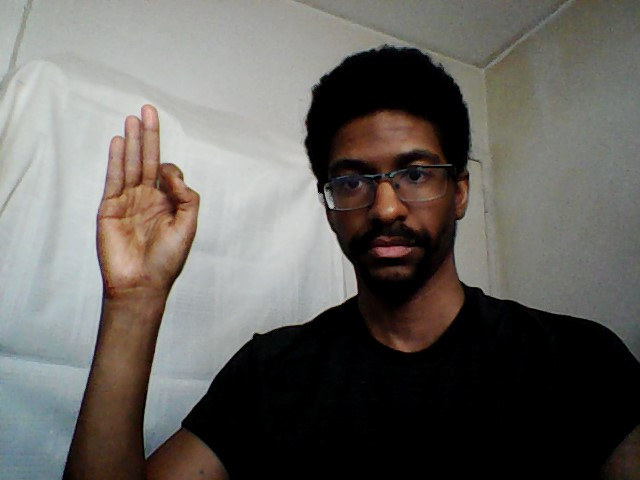f: (91, 101, 204, 307)
